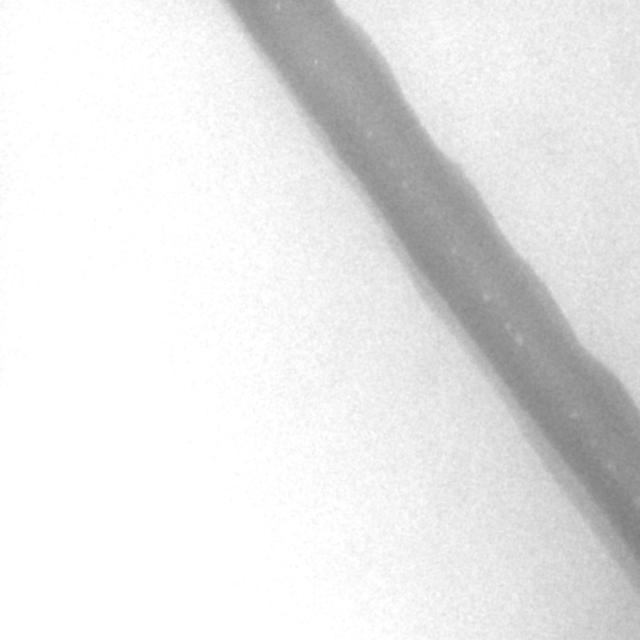air-hole: (606, 461, 616, 471), (515, 337, 523, 346), (571, 410, 578, 420), (484, 292, 490, 302), (590, 439, 597, 447), (636, 495, 640, 507), (403, 180, 407, 188), (506, 322, 510, 330), (368, 131, 372, 138), (446, 235, 451, 240), (452, 248, 456, 254), (389, 161, 393, 166)
